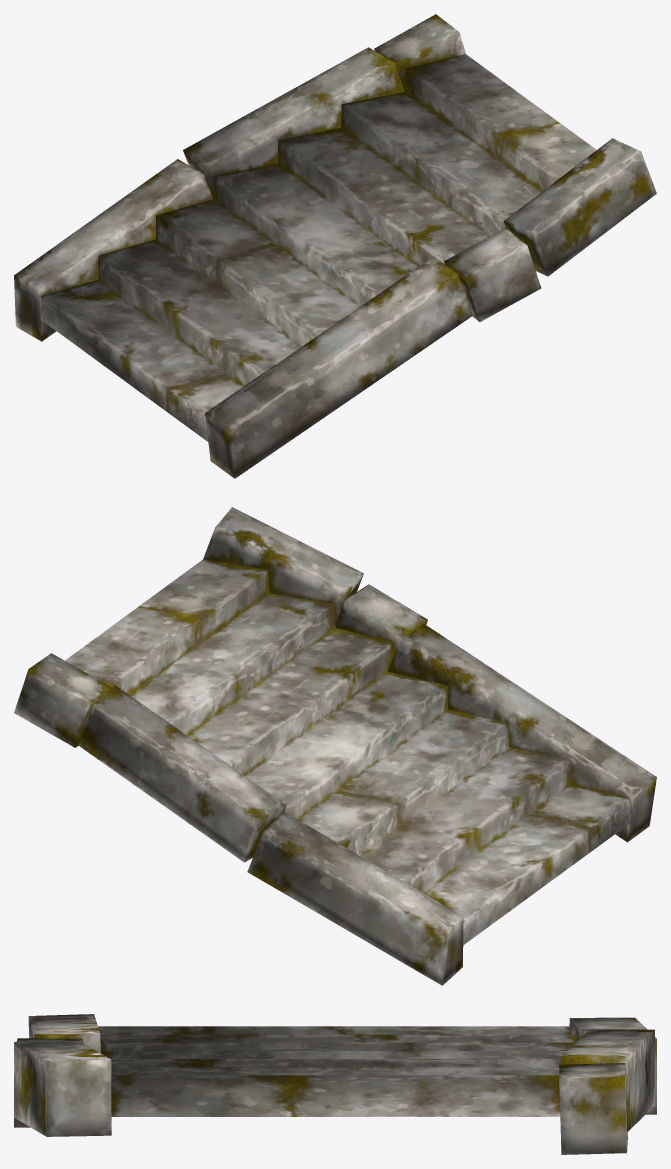
File: Stairs6.fbx
The picture shows the model from 3 angles, top to bottom: view 1: azimuth 30°, elevation 25°; view 2: azimuth 150°, elevation 25°; view 3: azimuth 270°, elevation 25°; orthographic projection. The views are drawn at different scales.
Visible parts, largest first — view 1: SM_a_001_Stairs_06a; view 2: SM_a_001_Stairs_06a; view 3: SM_a_001_Stairs_06a.
Boxes of the visible parts, box(x1,y1,x2,y2) form: SM_a_001_Stairs_06a: box(14, 14, 656, 478); SM_a_001_Stairs_06a: box(14, 507, 656, 985); SM_a_001_Stairs_06a: box(14, 1014, 656, 1154).
Bounding box in the file's own units: 289 × 143 × 262.
